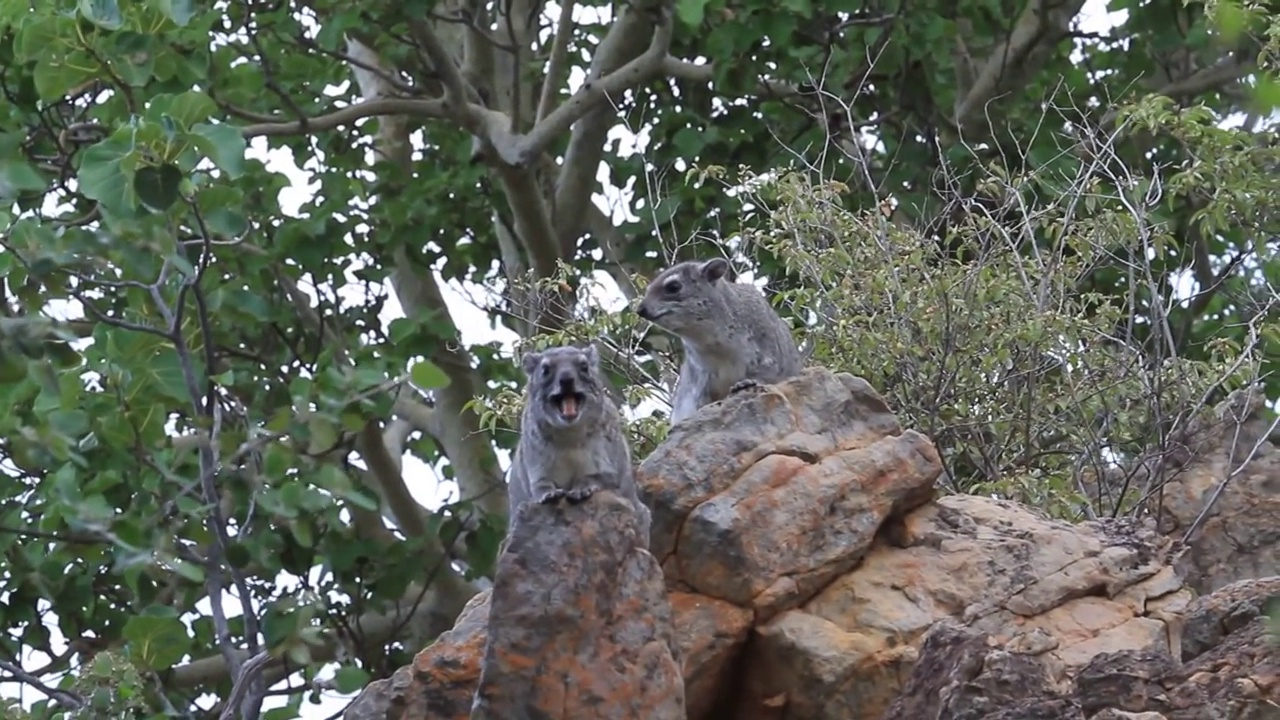Rock Hyrex: (636, 258, 802, 425), (506, 340, 637, 528)
